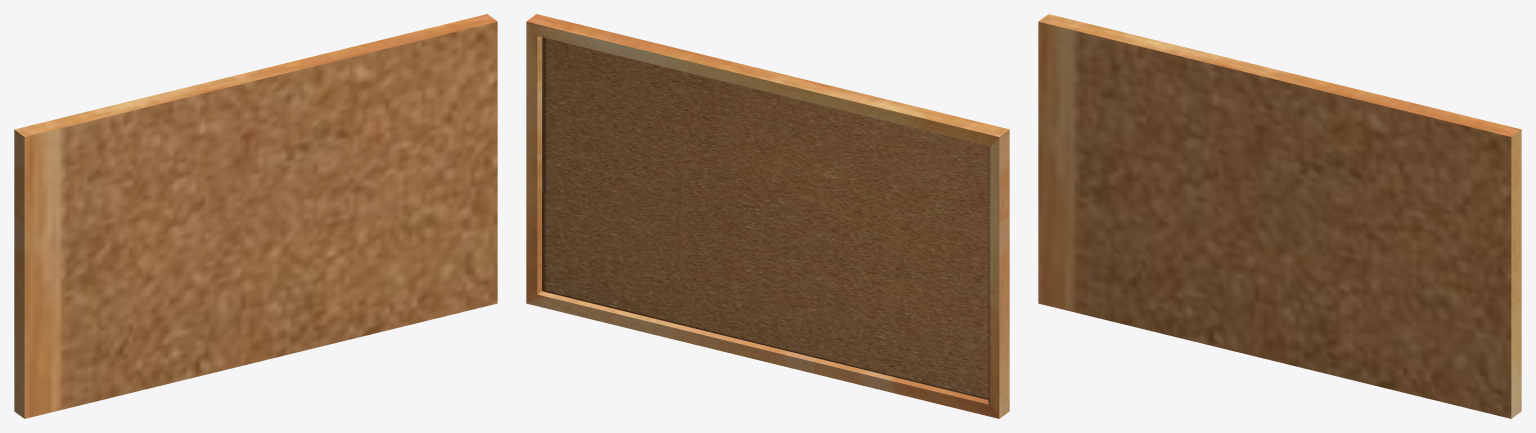
Rendered from Int_Pinboard.fbx.
3 renders of one model, left to right at view 1: azimuth 30°, elevation 25°; view 2: azimuth 150°, elevation 25°; view 3: azimuth 330°, elevation 25°, orthographic.
Parts seen in each view (by area): view 1: Cube.028; view 2: Cube.028; view 3: Cube.028.
Part boxes in pixels (x1,y1,x2,y2): Cube.028: (14,14,497,418); Cube.028: (526,14,1009,418); Cube.028: (1038,14,1521,418).
Size of the model in its own units: 251 by 143 by 9.56.
